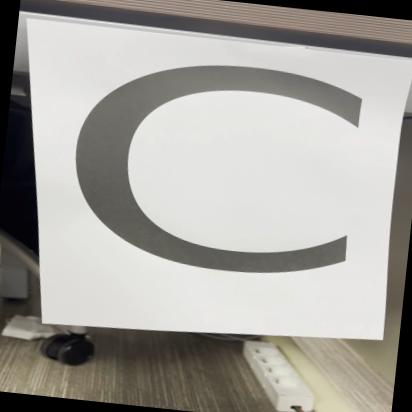seat: (0, 11, 396, 359)
